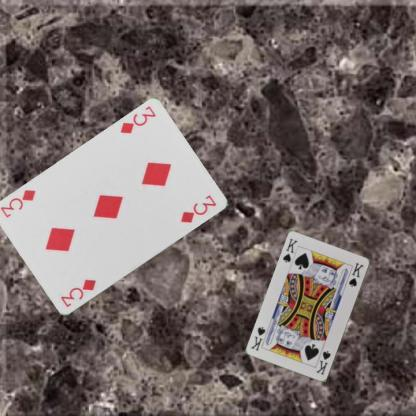3d: (58, 276, 98, 309), (117, 103, 157, 136)
Ks: (280, 235, 298, 264), (313, 349, 332, 376)
